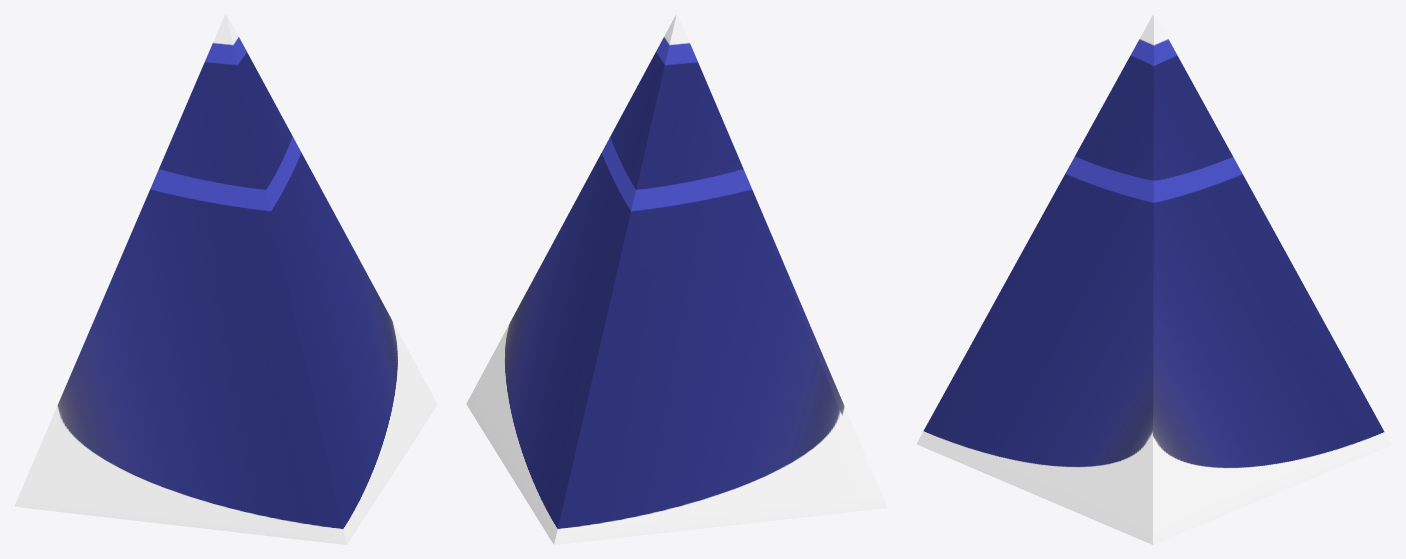
3 renders of one model, left to right at view 1: azimuth 30°, elevation 25°; view 2: azimuth 150°, elevation 25°; view 3: azimuth 270°, elevation 25°, orthographic. The views are drawn at different scales.
Size of the model in its own units: 1.98 by 2 by 1.98.
Materials: 2 (2 with a texture image).
